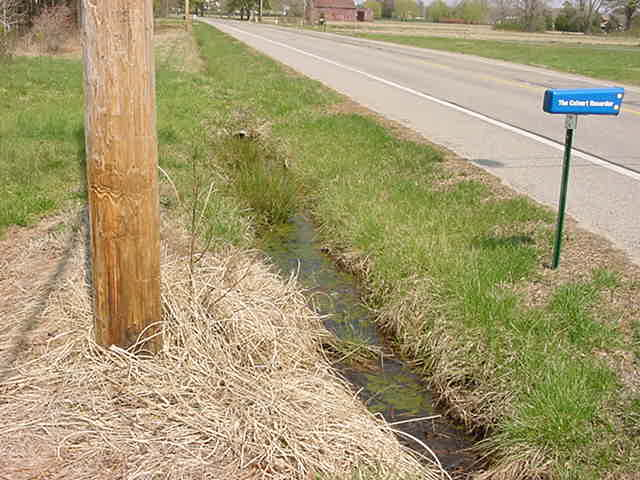water: (273, 220, 492, 477)
